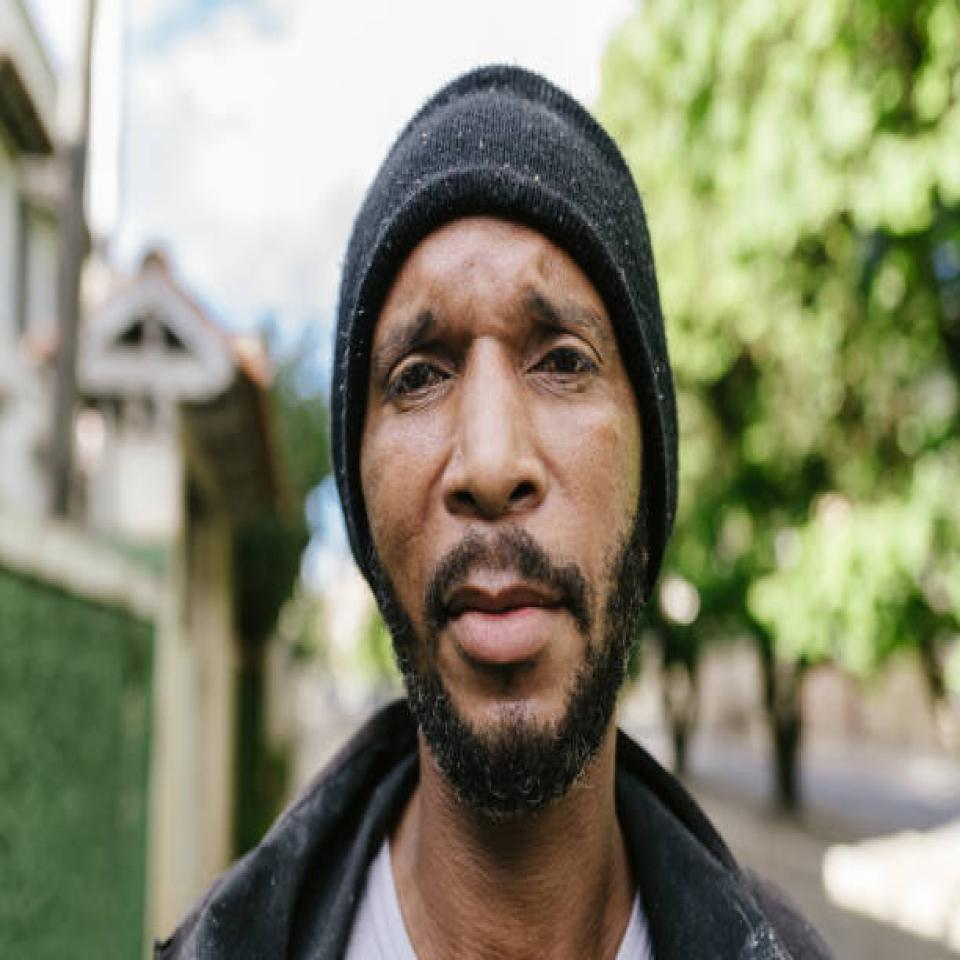Sadness: (367, 237, 642, 787)
